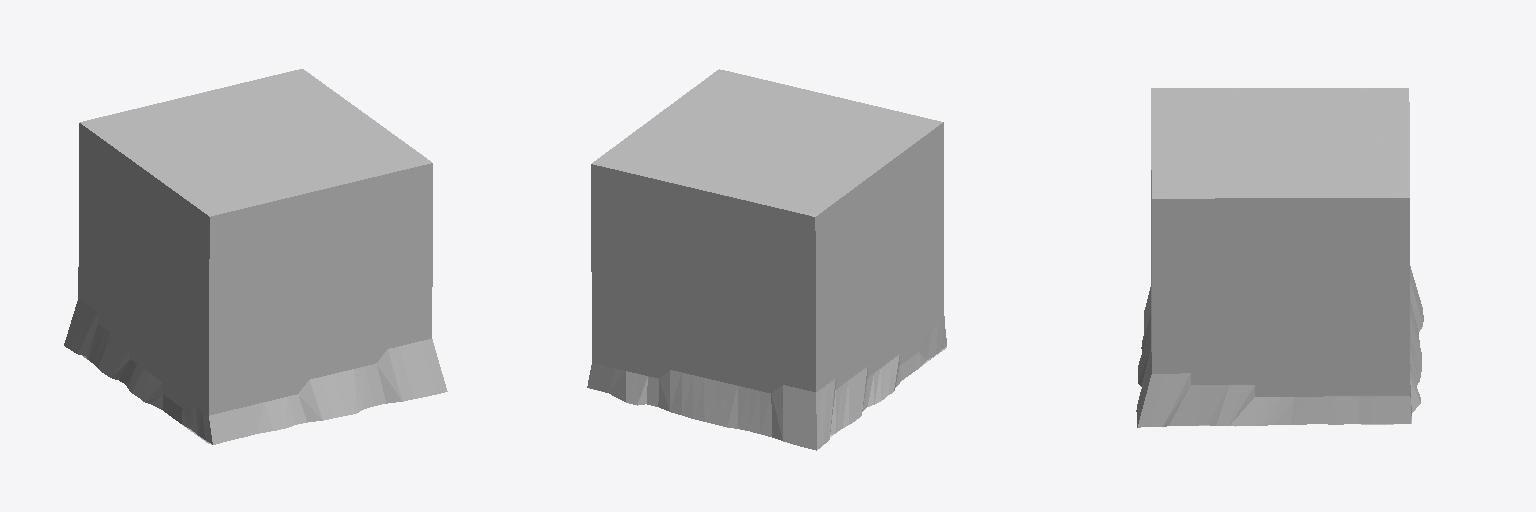
The model's file is mod0215.obj.
The picture shows the model from 3 angles: view 1: azimuth 30°, elevation 25°; view 2: azimuth 150°, elevation 25°; view 3: azimuth 270°, elevation 25°; orthographic projection.
Visible parts, largest first — view 1: Box001; view 2: Box001; view 3: Box001.
Part boxes in pixels (x1,y1,x2,y2): Box001: (64, 69, 447, 444); Box001: (587, 69, 946, 450); Box001: (1136, 88, 1423, 427).
Bounding box in the file's own units: 0.5799 × 0.5222 × 0.5979.